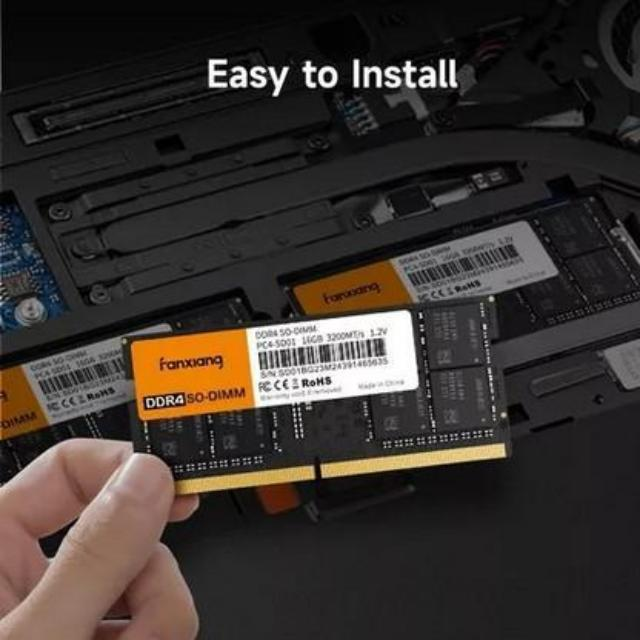RAM: (120, 296, 514, 507)
